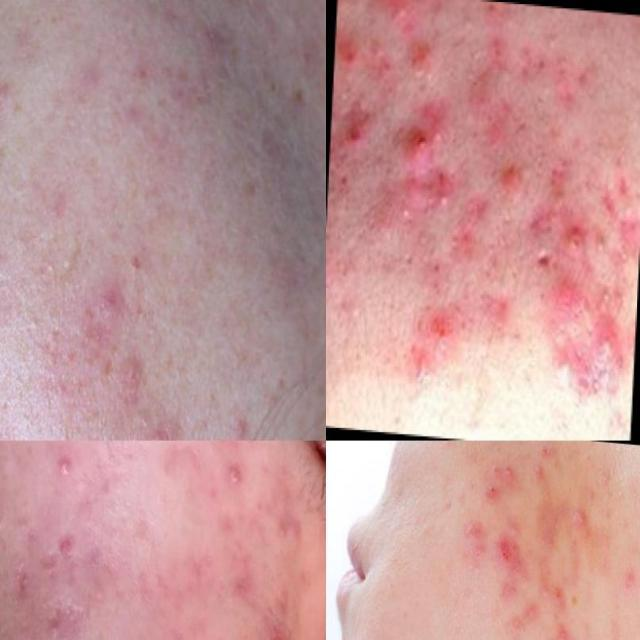Pimples: (83, 235, 144, 334), (107, 342, 168, 406), (400, 101, 440, 168), (420, 293, 454, 355), (558, 208, 598, 260), (334, 108, 373, 157), (589, 312, 623, 366), (495, 162, 534, 209), (45, 440, 81, 490), (48, 531, 86, 572), (32, 599, 68, 640), (548, 260, 576, 312), (225, 570, 262, 608), (492, 538, 530, 570), (222, 458, 248, 490), (531, 455, 554, 487), (256, 624, 300, 640), (570, 499, 592, 531), (461, 514, 481, 546), (162, 628, 215, 640)
